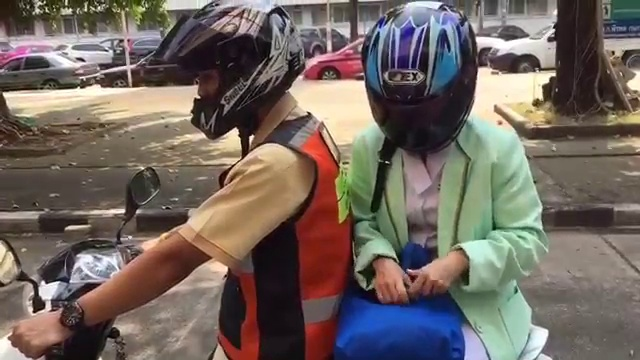helmet: (149, 2, 329, 134), (352, 8, 487, 152)
